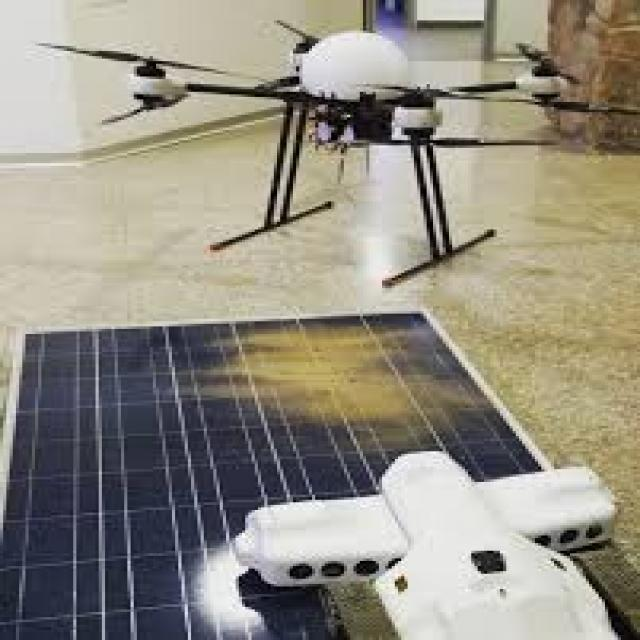faulty: (8, 311, 519, 508)
